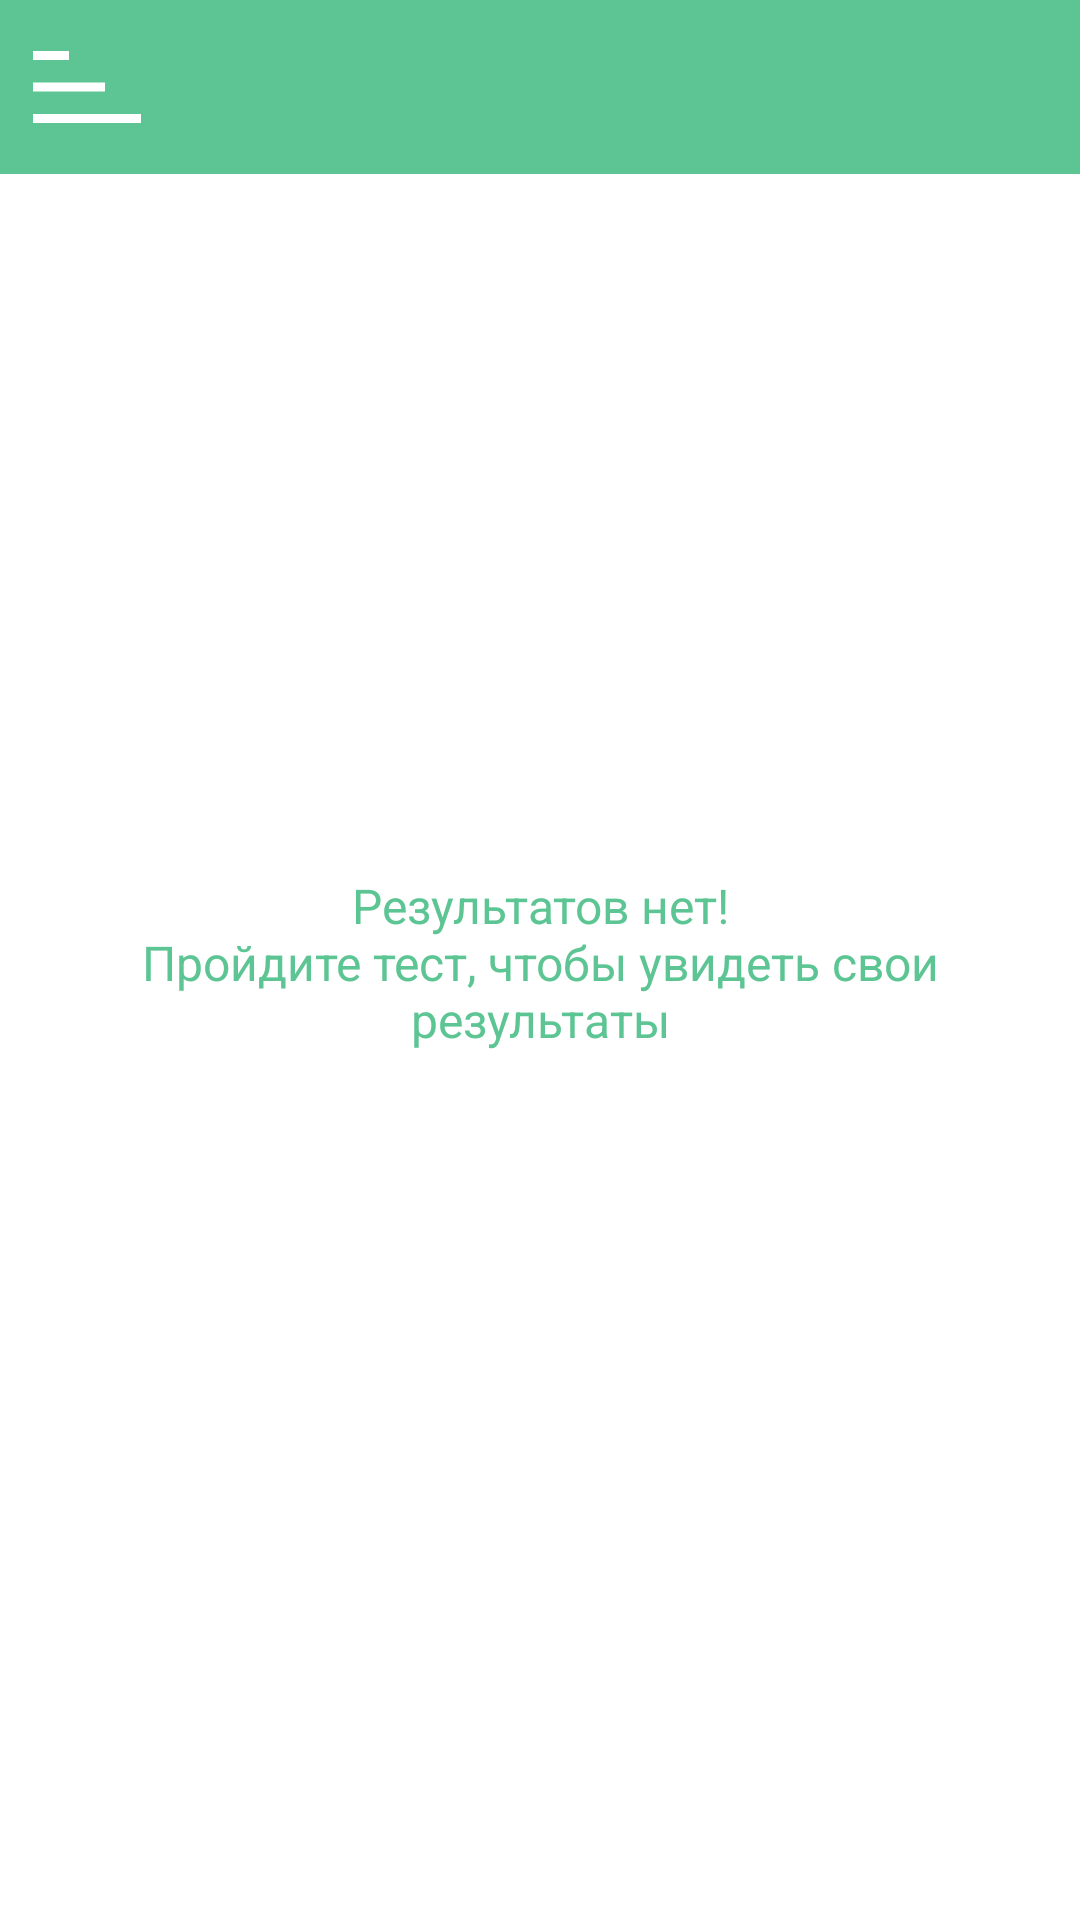

Named icons in this screenshot (1080*1920) and their centers, (x,y):
sort asc: (87,87)
